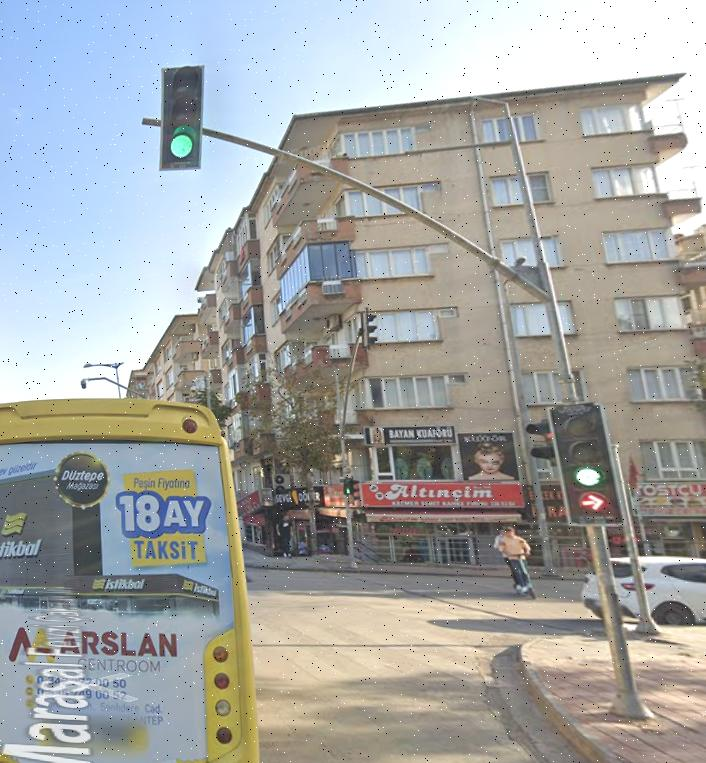greenlight: (562, 406, 609, 488), (165, 67, 201, 162)
